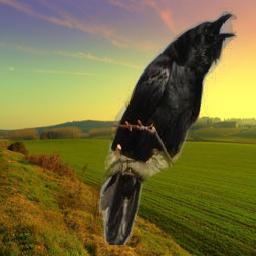Crow: (97, 7, 237, 245)
